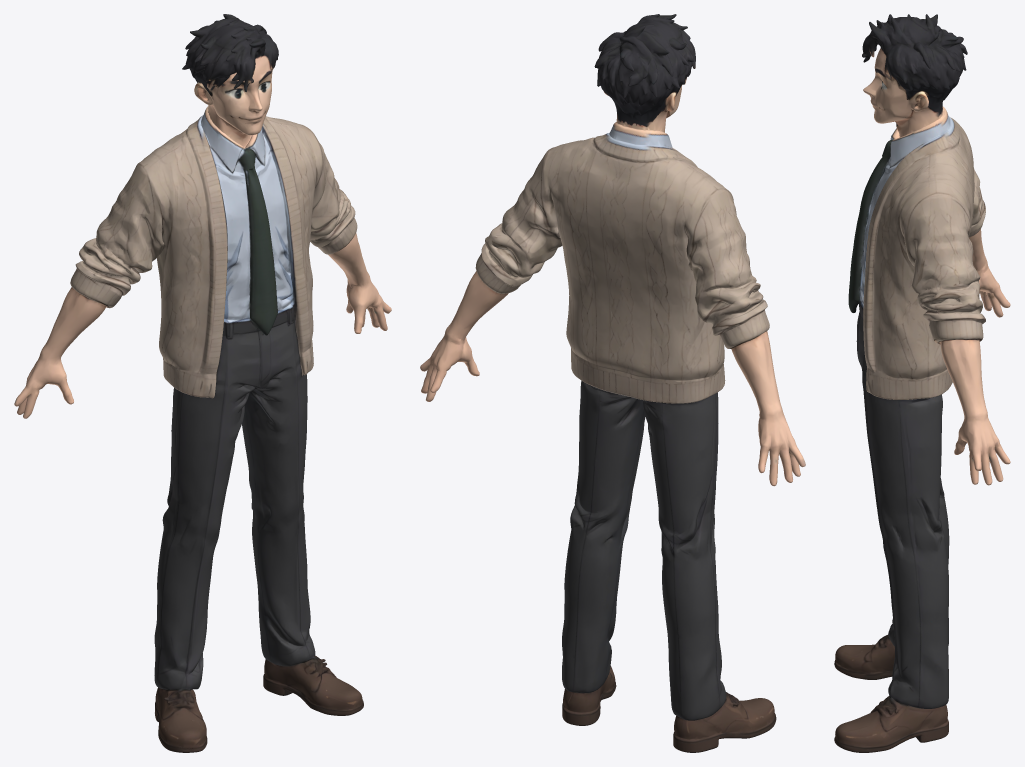
The model's file is dokyungmin_front.glb.
3 views of the same model, side by side, from view 1: azimuth 30°, elevation 25°; view 2: azimuth 150°, elevation 25°; view 3: azimuth 270°, elevation 25° (orthographic). The views are drawn at different scales.
Visible parts, largest first — view 1: tripo_node_7ef74540-a8ff-452f-8dc3-3408035d9df9; view 2: tripo_node_7ef74540-a8ff-452f-8dc3-3408035d9df9; view 3: tripo_node_7ef74540-a8ff-452f-8dc3-3408035d9df9.
Part boxes in pixels (<box>): tripo_node_7ef74540-a8ff-452f-8dc3-3408035d9df9: <box>14,14,391,752</box>; tripo_node_7ef74540-a8ff-452f-8dc3-3408035d9df9: <box>420,14,805,752</box>; tripo_node_7ef74540-a8ff-452f-8dc3-3408035d9df9: <box>834,14,1010,752</box>.
Size of the model in its own units: 0.9986 by 1.75 by 0.4051.
1 material, 1 textured.
